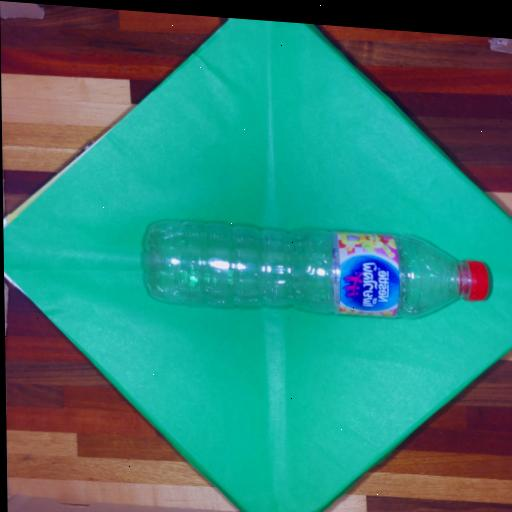bottle: (120, 195, 502, 339)
